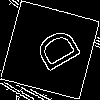D: (25, 25, 83, 79)
